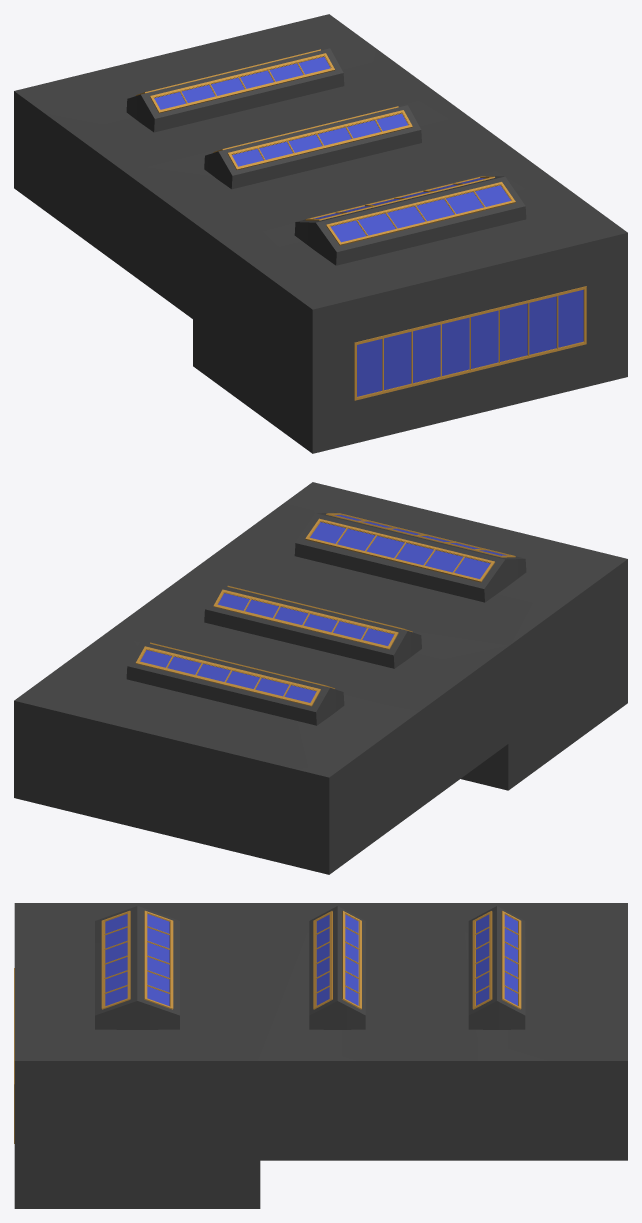
File: Art Gallery.fbx
The picture shows the model from 3 angles, top to bottom: view 1: azimuth 30°, elevation 25°; view 2: azimuth 150°, elevation 25°; view 3: azimuth 270°, elevation 25°; orthographic projection. The views are drawn at different scales.
Visible parts, largest first — view 1: Layer, Glass2, Glass1; view 2: Layer, Glass1; view 3: Layer, Glass1.
Part boxes in pixels (x1,y1,x2,y2): Layer: [14, 14, 627, 453]; Glass2: [354, 286, 586, 400]; Glass1: [136, 49, 515, 245]; Layer: [14, 482, 627, 874]; Glass1: [136, 513, 515, 706]; Layer: [14, 903, 627, 1208]; Glass1: [101, 910, 521, 1009].
Bounding box in the file's own units: 1406 × 733 × 2311.
